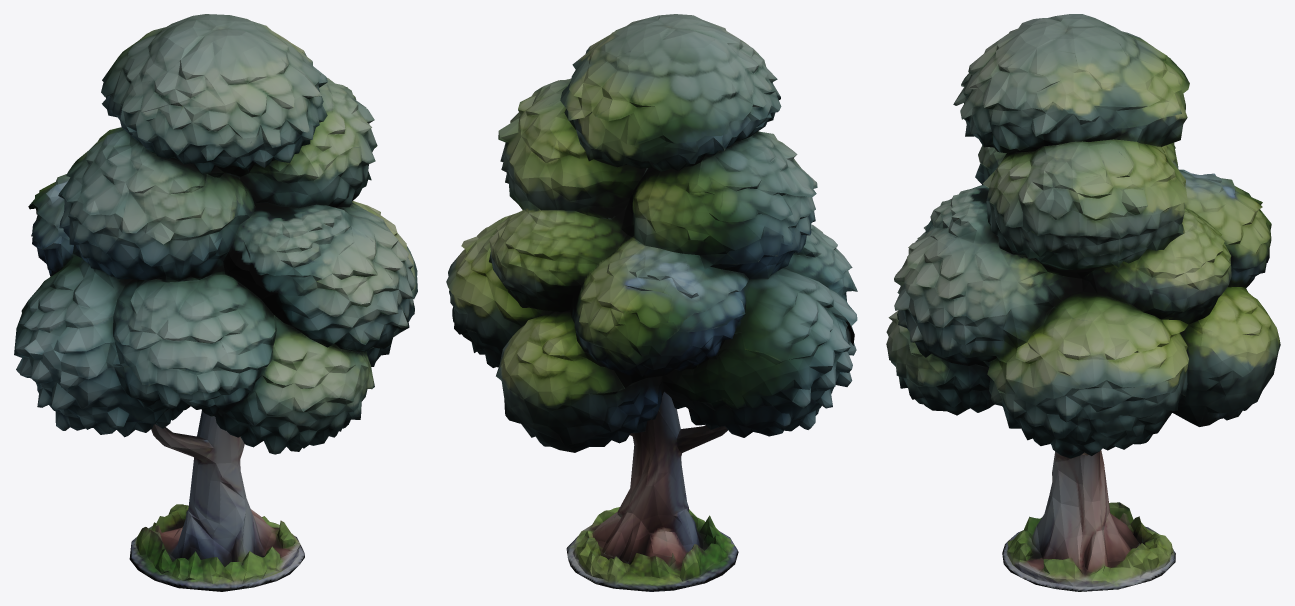
File: street_tree.glb
3 views of the same model, side by side, from view 1: azimuth 30°, elevation 25°; view 2: azimuth 150°, elevation 25°; view 3: azimuth 270°, elevation 25° (orthographic). The views are drawn at different scales.
Parts seen in each view (by area): view 1: world; view 2: world; view 3: world.
Part boxes in pixels (x1,y1,x2,y2): world: (14, 14, 417, 591); world: (446, 14, 857, 591); world: (886, 14, 1280, 591).
Size of the model in its own units: 0.7568 by 0.9982 by 0.6799.
Materials: 1 (1 with a texture image).
